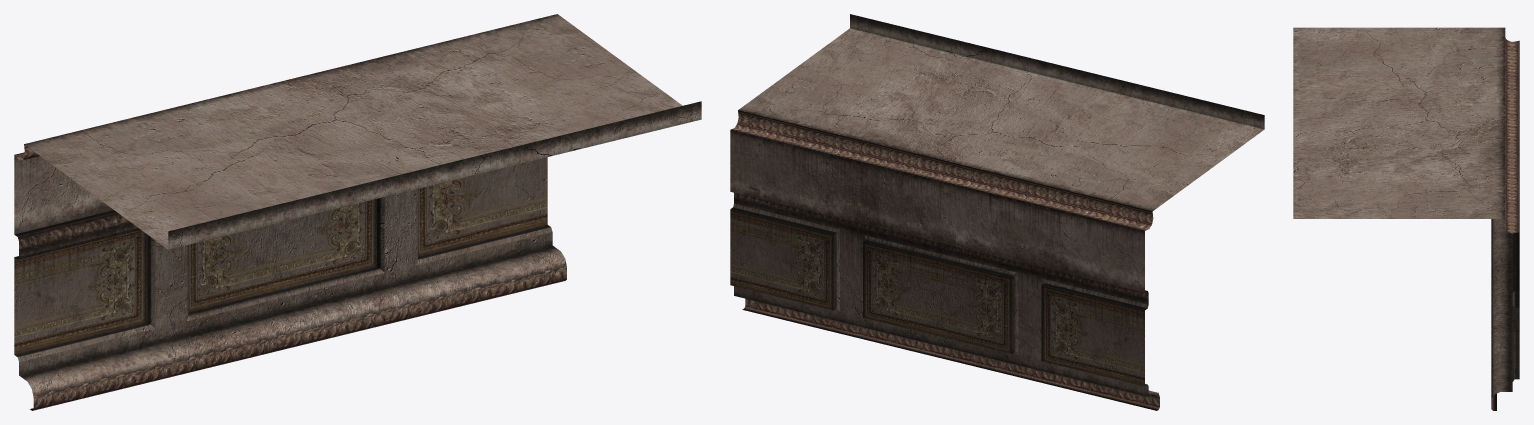
Rendered from 42_concave.dae.
3 renders of one model, left to right at view 1: azimuth 30°, elevation 25°; view 2: azimuth 150°, elevation 25°; view 3: azimuth 270°, elevation 25°, orthographic. The views are drawn at different scales.
Visible parts, largest first — view 1: concave; view 2: concave; view 3: concave.
Part boxes in pixels (x1=…): concave: x1=14, y1=14, x2=701, y2=410; concave: x1=730, y1=14, x2=1264, y2=410; concave: x1=1293, y1=27, x2=1519, y2=410.
Size of the model in its own units: 4 by 2 by 2.
